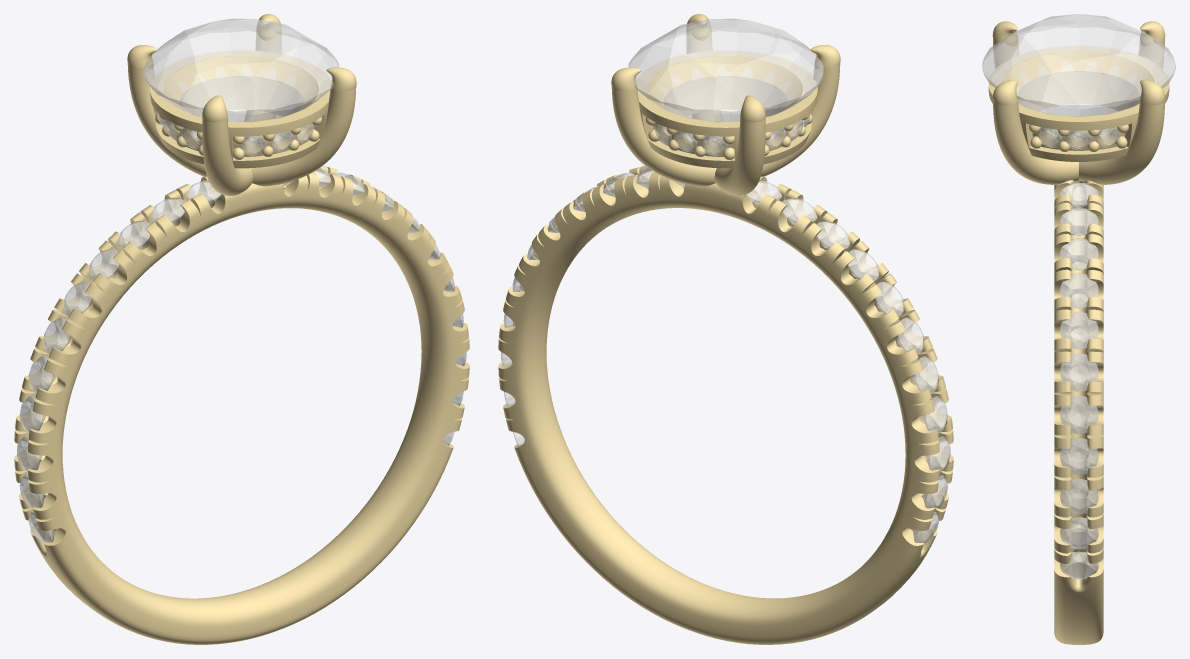
3 renders of one model, left to right at view 1: azimuth 30°, elevation 25°; view 2: azimuth 150°, elevation 25°; view 3: azimuth 270°, elevation 25°, orthographic.
Visible parts, largest first — view 1: NNObj_35, NNObj_0, NNObj_36, NNObj_38, NNObj_37, NNObj_40, NNObj_39, NNObj_8, NNObj_7, NNObj_6, NNObj_9; view 2: NNObj_35, NNObj_0, NNObj_36, NNObj_39, NNObj_40, NNObj_37, NNObj_38, NNObj_7, NNObj_8, NNObj_6, NNObj_9, NNObj_5; view 3: NNObj_35, NNObj_0, NNObj_36, NNObj_39, NNObj_38, NNObj_17, NNObj_18, NNObj_16, NNObj_19, NNObj_37, NNObj_40, NNObj_15 (+9 smaller).
Part boxes in pixels (left/top/right/bottom): NNObj_35: left=14, top=166, right=469, bottom=644; NNObj_0: left=144, top=18, right=339, bottom=122; NNObj_36: left=150, top=50, right=331, bottom=168; NNObj_38: left=251, top=67, right=356, bottom=186; NNObj_37: left=202, top=95, right=253, bottom=195; NNObj_40: left=127, top=45, right=206, bottom=176; NNObj_39: left=245, top=14, right=281, bottom=121; NNObj_8: left=88, top=248, right=119, bottom=280; NNObj_7: left=64, top=281, right=91, bottom=316; NNObj_6: left=43, top=317, right=70, bottom=354; NNObj_9: left=117, top=221, right=150, bottom=248; NNObj_35: left=498, top=166, right=953, bottom=644; NNObj_0: left=628, top=18, right=823, bottom=122; NNObj_36: left=636, top=50, right=817, bottom=168; NNObj_39: left=611, top=67, right=716, bottom=186; NNObj_40: left=714, top=95, right=765, bottom=195; NNObj_37: left=761, top=45, right=840, bottom=176; NNObj_38: left=686, top=14, right=722, bottom=121; NNObj_7: left=875, top=281, right=903, bottom=316; NNObj_8: left=848, top=249, right=879, bottom=280; NNObj_6: left=897, top=317, right=923, bottom=354; NNObj_9: left=817, top=221, right=850, bottom=249; NNObj_5: left=912, top=356, right=938, bottom=394; NNObj_35: left=1054, top=180, right=1103, bottom=644; NNObj_0: left=982, top=14, right=1175, bottom=116; NNObj_36: left=988, top=46, right=1169, bottom=161; NNObj_39: left=1079, top=79, right=1165, bottom=184; NNObj_38: left=992, top=79, right=1078, bottom=184; NNObj_17: left=1060, top=353, right=1098, bottom=391; NNObj_18: left=1060, top=395, right=1098, bottom=434; NNObj_16: left=1060, top=312, right=1098, bottom=349; NNObj_19: left=1060, top=438, right=1098, bottom=475; NNObj_37: left=992, top=21, right=1019, bottom=68; NNObj_40: left=1138, top=21, right=1165, bottom=68; NNObj_15: left=1060, top=273, right=1098, bottom=308.
Size of the model in its own units: 0.0207 by 0.0267 by 0.008.
